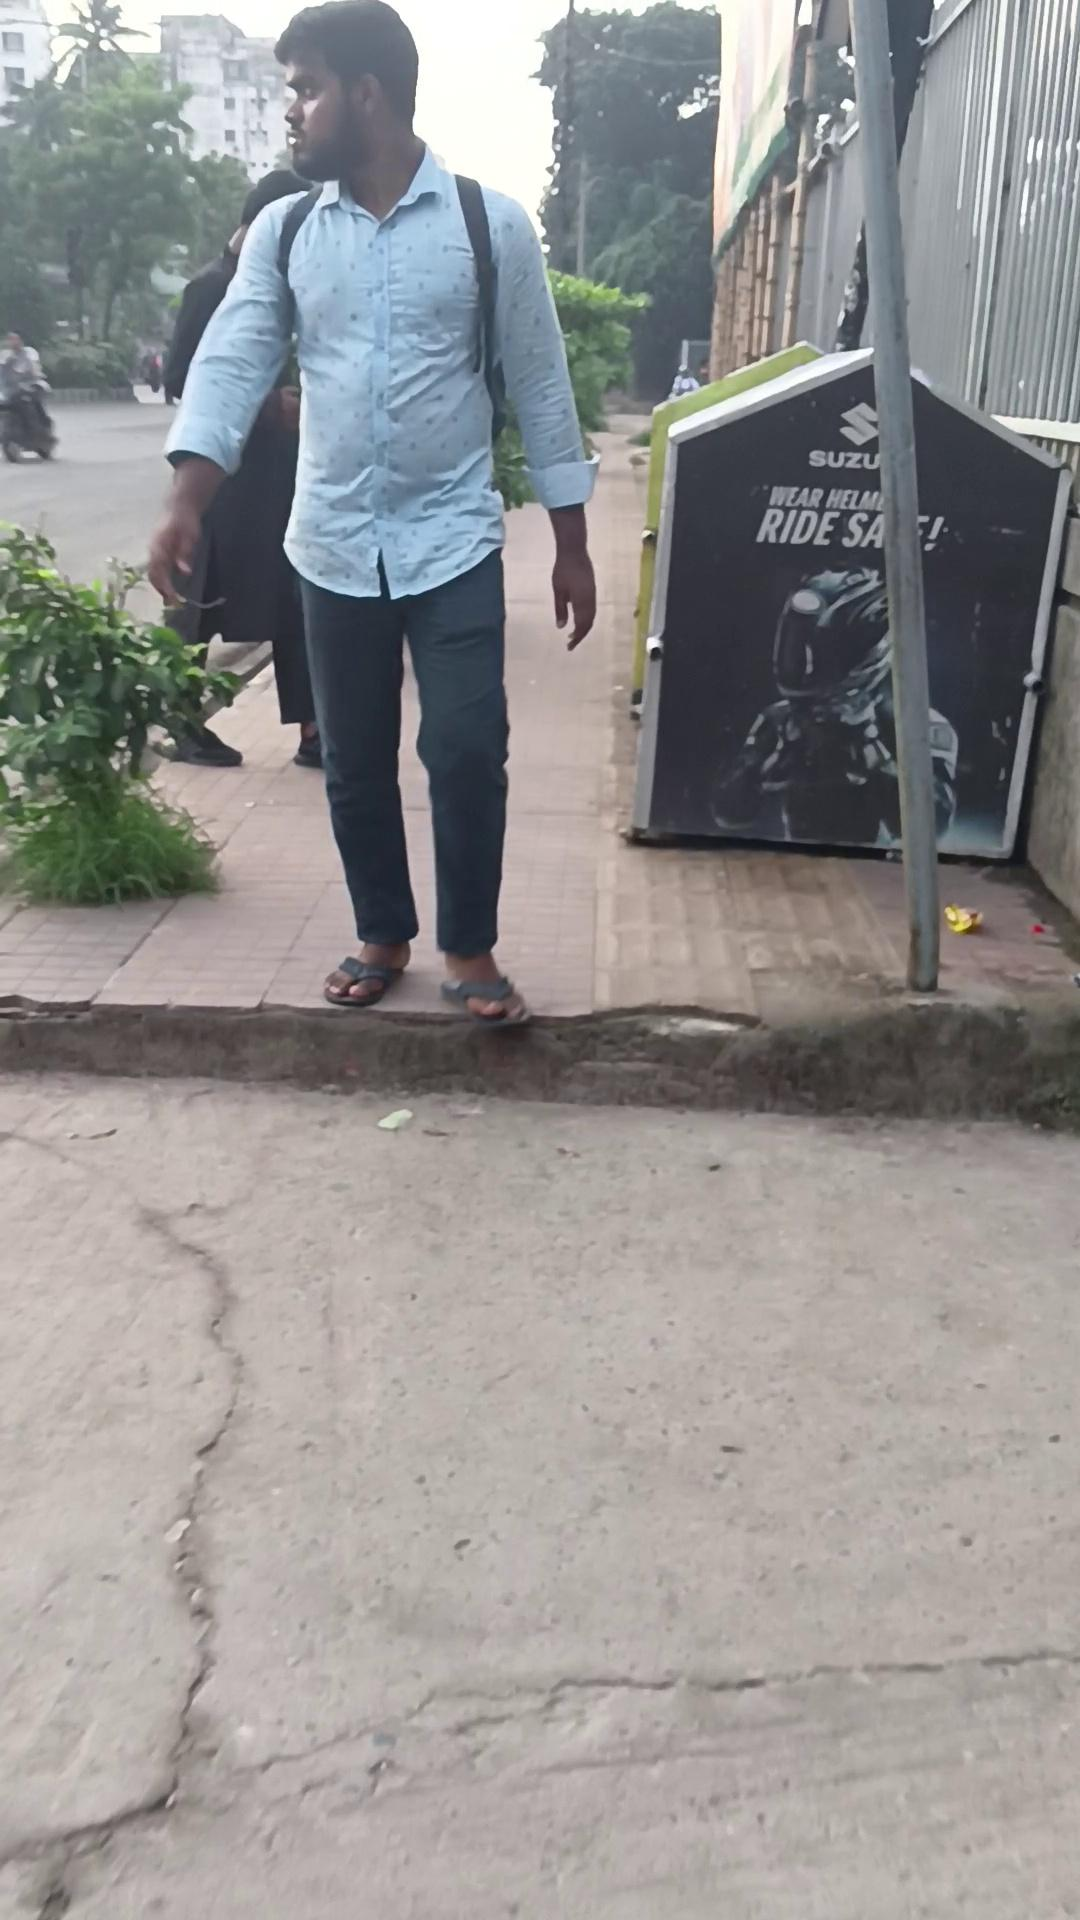Cat: (636, 357, 1080, 876)
Crosswalk: (3, 993, 1076, 1125)
Light-pole: (0, 371, 59, 463)
Muddy road: (146, 0, 600, 1029), (146, 167, 324, 770), (670, 367, 699, 397)
Obstacle: (847, 1, 942, 993)
